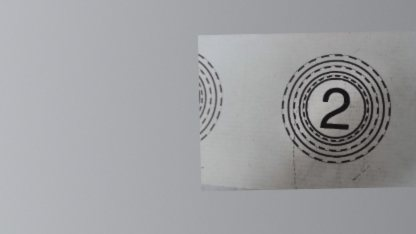2r: (278, 51, 393, 166)
